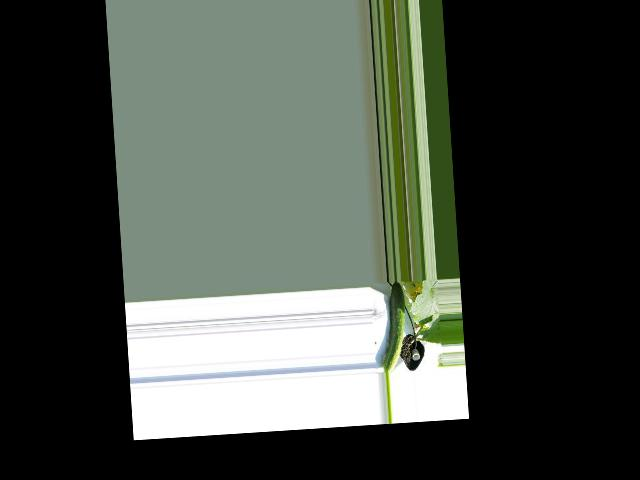cucumber: (377, 281, 408, 374)
